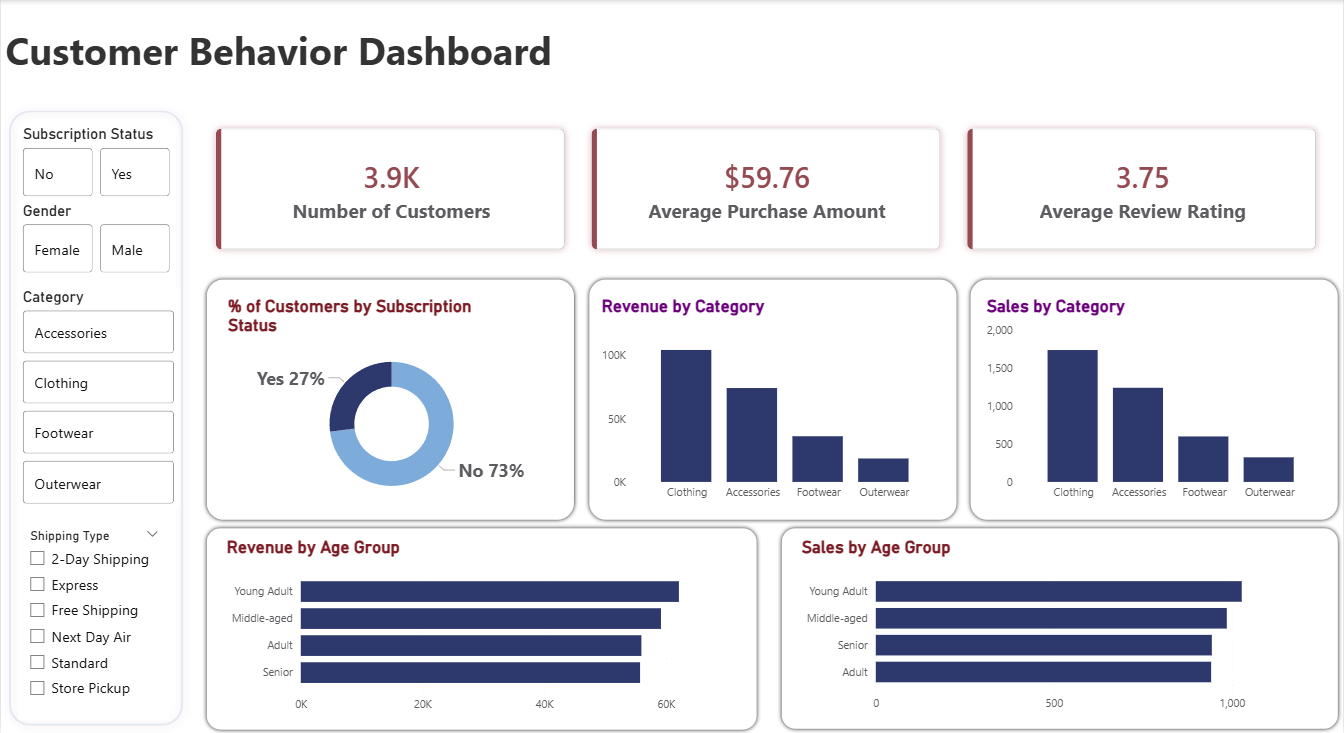

The page's visual inventory and layout, read from the dashboard file:
{"tool":"powerbi","page":{"name":"Page 1","canvas":[1500,820],"ordinal":0},"visuals":[{"type":"cardVisual","fields":{"Data":["public customer.Number of Customers","public customer.Average Purchase Amount","public customer.Average Review Rating"]},"box":[212.9,115.3,1286.5,191.6],"z":2000},{"type":"shape","box":[225.3,585.1,624.8,235.2],"z":2500,"group":"g1"},{"type":"shape","box":[0,0,1499.4,115.3],"z":3000},{"type":"textbox","box":[0,21.3,1498.9,93.5],"z":4000},{"type":"shape","box":[225.4,307,420.5,278.6],"z":5000},{"type":"donutChart","title":"% of Customers by Subscription Status","fields":{"Category":["public customer.subscription_status"],"Y":["CountNonNull(public customer.customer_id)"]},"box":[248.4,331.8,376.2,237.8],"z":6000},{"type":"shape","box":[1078.9,307,420.5,278.6],"z":7000},{"type":"shape","box":[652.1,307,420.5,278.6],"z":8000},{"type":"clusteredColumnChart","title":"Revenue by Category","fields":{"Y":["Sum(public customer.purchase_amount)"],"Category":["public customer.category"]},"box":[667.2,331.8,385.1,237.8],"z":9000},{"type":"clusteredColumnChart","title":"Sales by Category","fields":{"Y":["CountNonNull(public customer.customer_id)"],"Category":["public customer.category"]},"box":[1096.6,331.8,385.1,237.8],"z":10000},{"type":"shape","box":[0,114.8,212.5,705.5],"z":11000},{"type":"advancedSlicerVisual","fields":{"Values":["public customer.subscription_status"]},"box":[19.8,140.3,174.3,85],"z":12000},{"type":"advancedSlicerVisual","fields":{"Values":["public customer.gender"]},"box":[19.8,225.3,174.3,85],"z":13000},{"type":"advancedSlicerVisual","fields":{"Values":["public customer.category"]},"box":[19.8,321.6,179.9,247.9],"z":14000},{"type":"slicer","fields":{"Values":["public customer.shipping_type"]},"box":[19.8,585.1,168.6,219.6],"z":15000},{"type":"shape","box":[867.7,585.6,631.7,234.2],"z":16000},{"type":"clusteredBarChart","title":"Sales by Age Group","fields":{"Y":["CountNonNull(public customer.customer_id)"],"Category":["public customer.age_group"]},"box":[890.8,601.5,585.6,204.1],"z":17000},{"type":"clusteredBarChart","title":"Revenue by Age Group","fields":{"Y":["Sum(public customer.purchase_amount)"],"Category":["public customer.age_group"]},"box":[248.1,601.1,579.1,204.9],"z":17500,"group":"g1"},{"type":"group","id":"g1","title":"Group 1","box":[225.3,585.1,624.8,235.2],"z":17501}]}

Visuals, with their boxes in screenshot pixels (x1, y1, x2, y2), scaled from the page's 1500x820 canvas onto the 1344x733 screenshot:
cardVisual - public customer.Number of Customers x public customer.Average Purchase Amount: crop(191, 103, 1343, 274)
shape: crop(202, 523, 762, 732)
shape: crop(0, 0, 1343, 103)
textbox: crop(0, 19, 1343, 103)
shape: crop(202, 274, 579, 523)
"% of Customers by Subscription Status" donutChart: crop(223, 297, 560, 509)
shape: crop(967, 274, 1343, 523)
shape: crop(584, 274, 961, 523)
"Revenue by Category" clusteredColumnChart: crop(598, 297, 943, 509)
"Sales by Category" clusteredColumnChart: crop(983, 297, 1328, 509)
shape: crop(0, 103, 190, 732)
advancedSlicerVisual - public customer.subscription_status: crop(18, 125, 174, 201)
advancedSlicerVisual - public customer.gender: crop(18, 201, 174, 277)
advancedSlicerVisual - public customer.category: crop(18, 287, 179, 509)
slicer - public customer.shipping_type: crop(18, 523, 169, 719)
shape: crop(777, 523, 1343, 732)
"Sales by Age Group" clusteredBarChart: crop(798, 538, 1323, 720)
"Revenue by Age Group" clusteredBarChart: crop(222, 537, 741, 720)
"Group 1" group: crop(202, 523, 762, 732)
